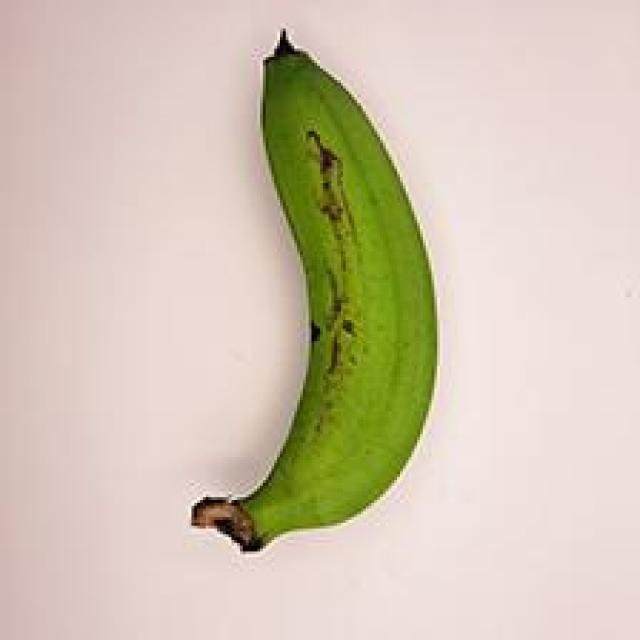Raw: (159, 19, 471, 574)
